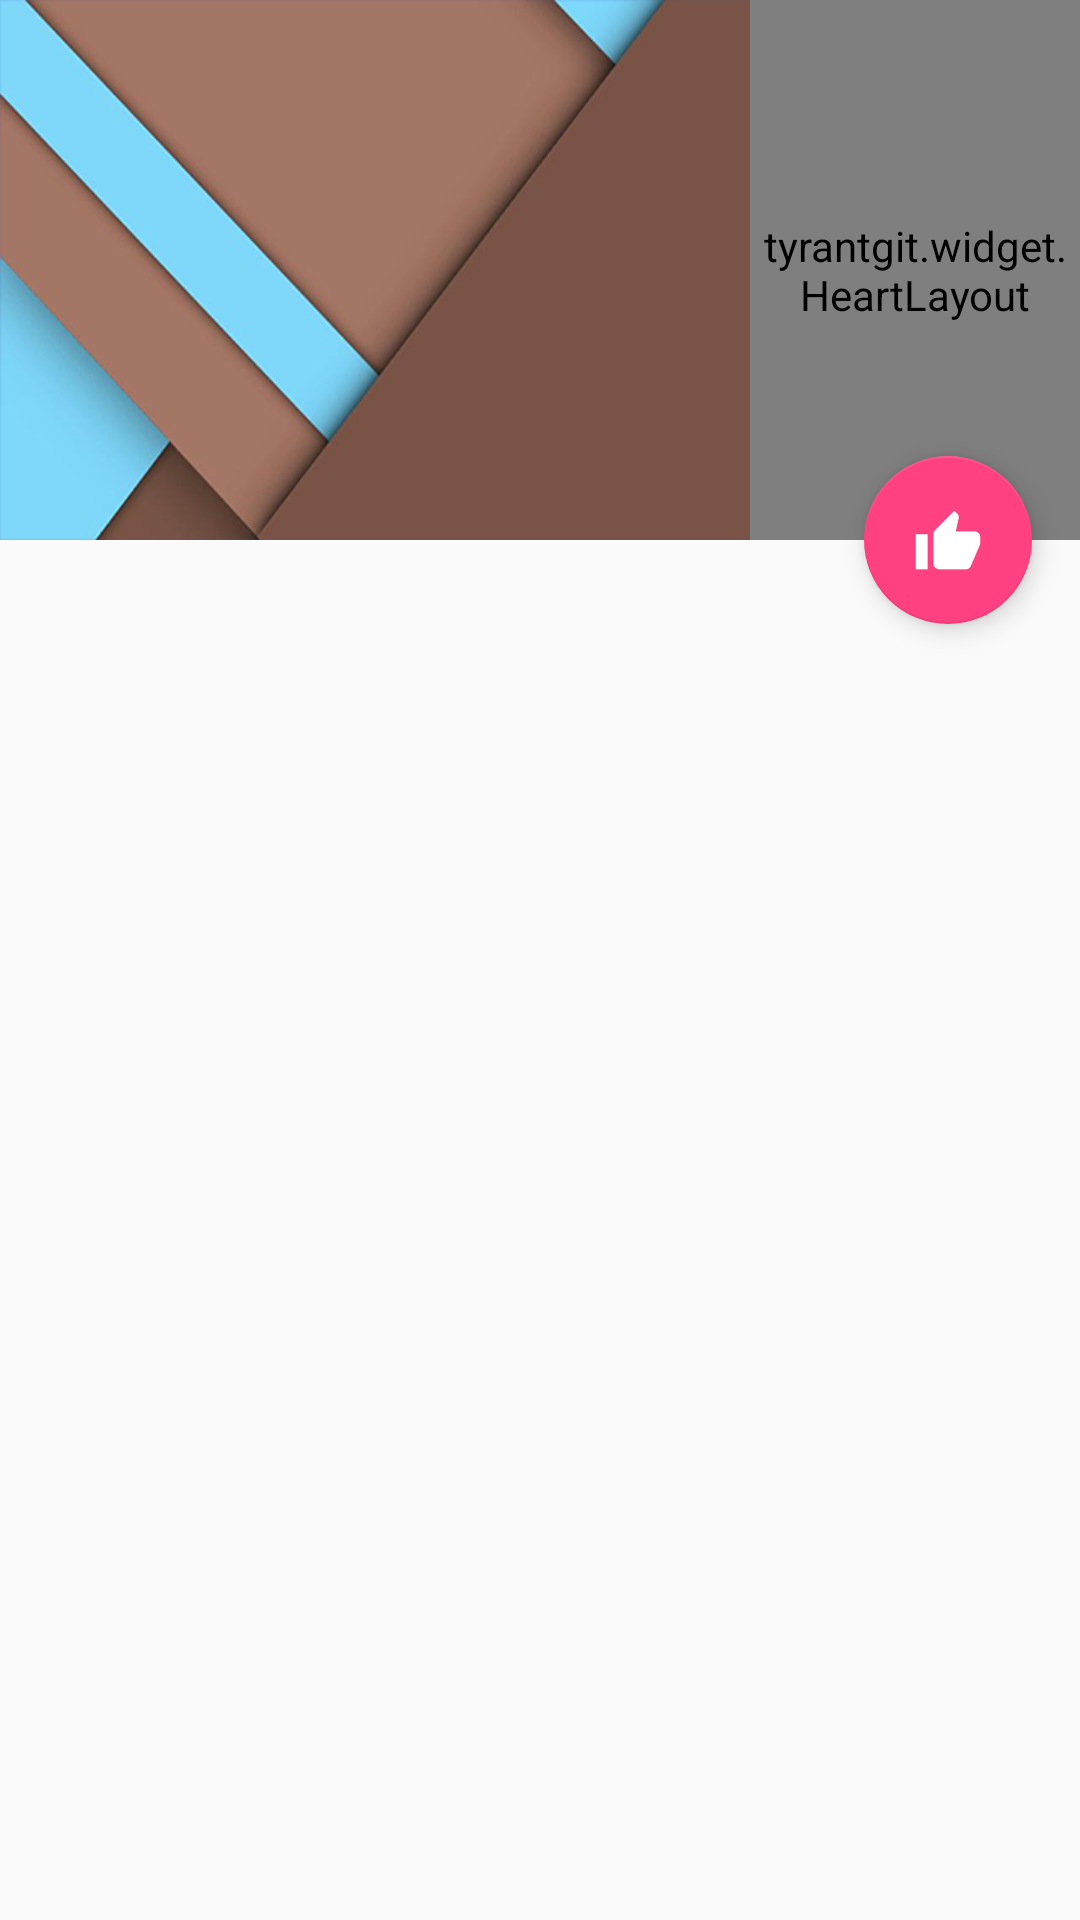

Icon click points for this 1080px×1920px phone screenshot, format (x=x, y=y):
like: (x=948, y=540)
